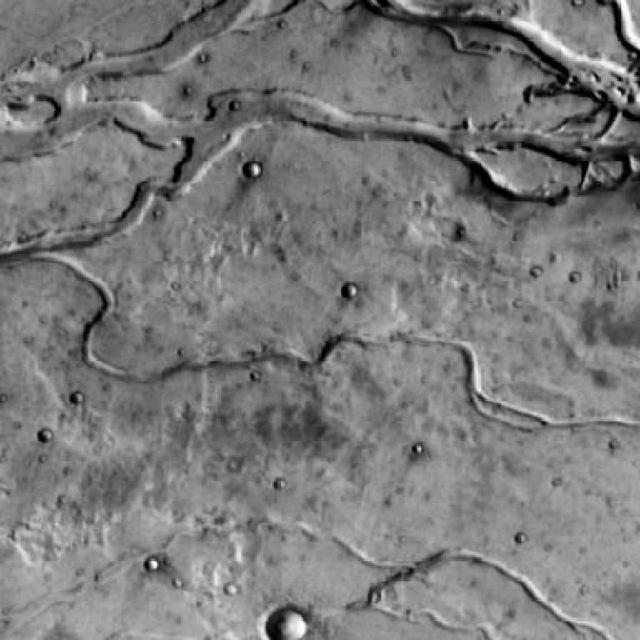crater: (264, 606, 307, 640), (243, 162, 262, 178)
